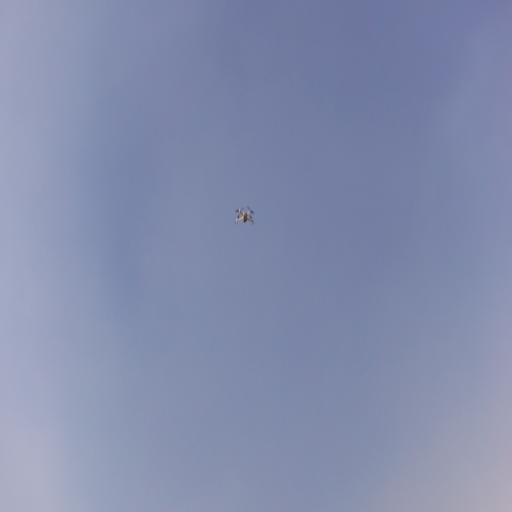drones: (234, 205, 256, 226)
